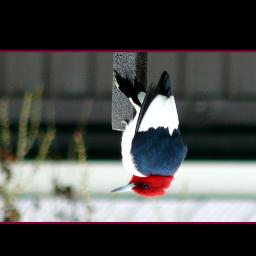Woodpecker: (110, 66, 189, 202)
